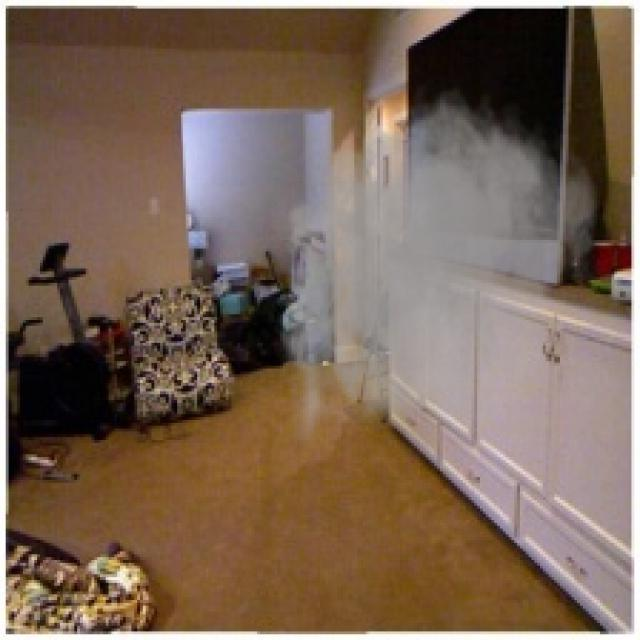smoke: (263, 77, 608, 457)
